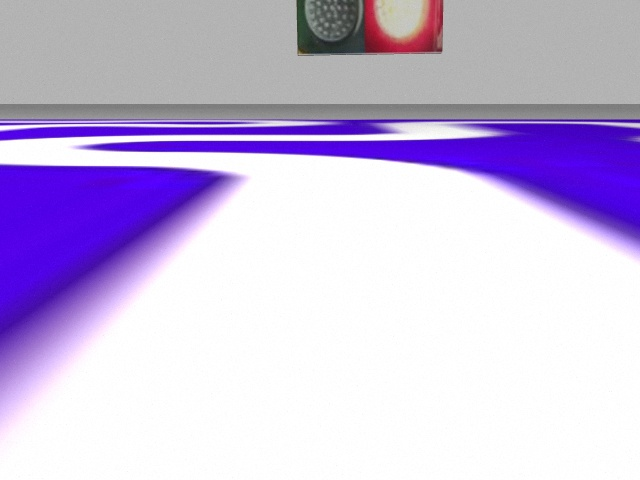red: (365, 1, 445, 50)
